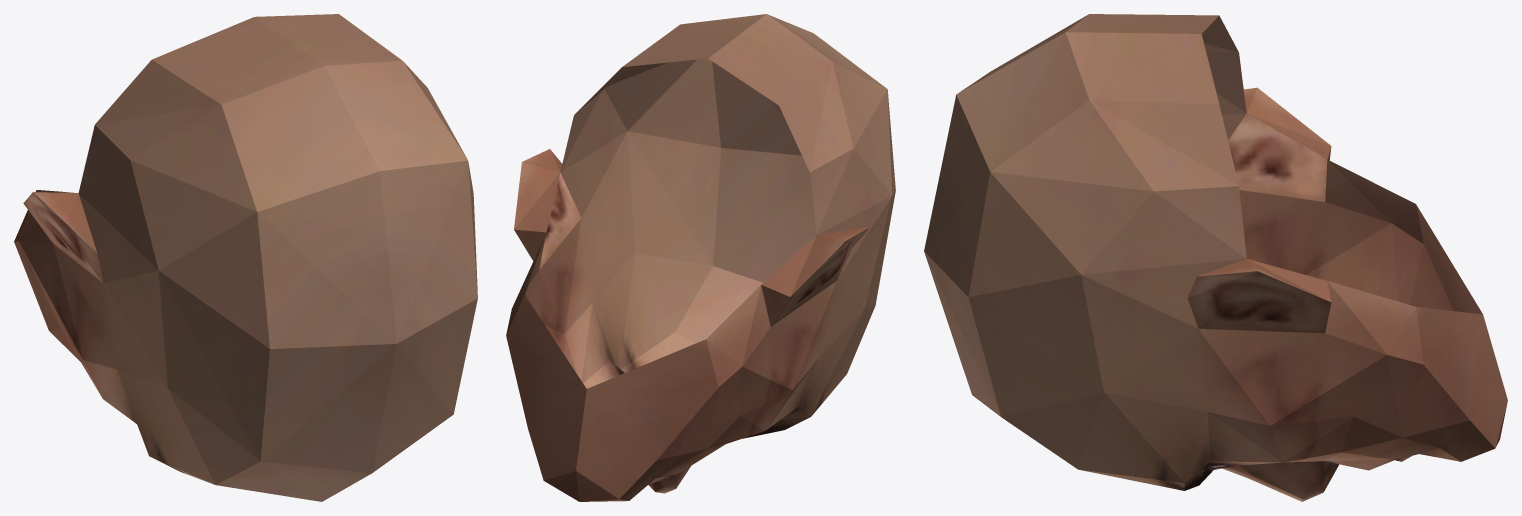
File: common_face_male_2305.obj
3 renders of one model, left to right at view 1: azimuth 30°, elevation 25°; view 2: azimuth 150°, elevation 25°; view 3: azimuth 270°, elevation 25°, orthographic. The views are drawn at different scales.
Visible parts, largest first — view 1: common_face_male_2305; view 2: common_face_male_2305; view 3: common_face_male_2305.
Boxes of the visible parts, x1,y1,x2,y2 form: common_face_male_2305: [14, 14, 477, 501]; common_face_male_2305: [506, 14, 895, 501]; common_face_male_2305: [924, 14, 1507, 501].
Size of the model in its own units: 7.58 by 9.05 by 10.19.
Materials: 1 (1 with a texture image).
